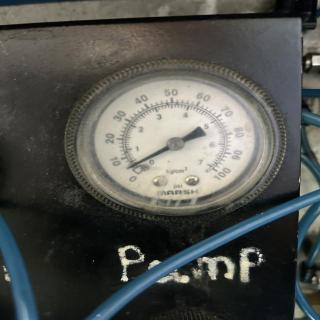gauge: (59, 29, 298, 239), (126, 158, 150, 182), (200, 160, 224, 180), (166, 136, 186, 152), (124, 162, 136, 172)
